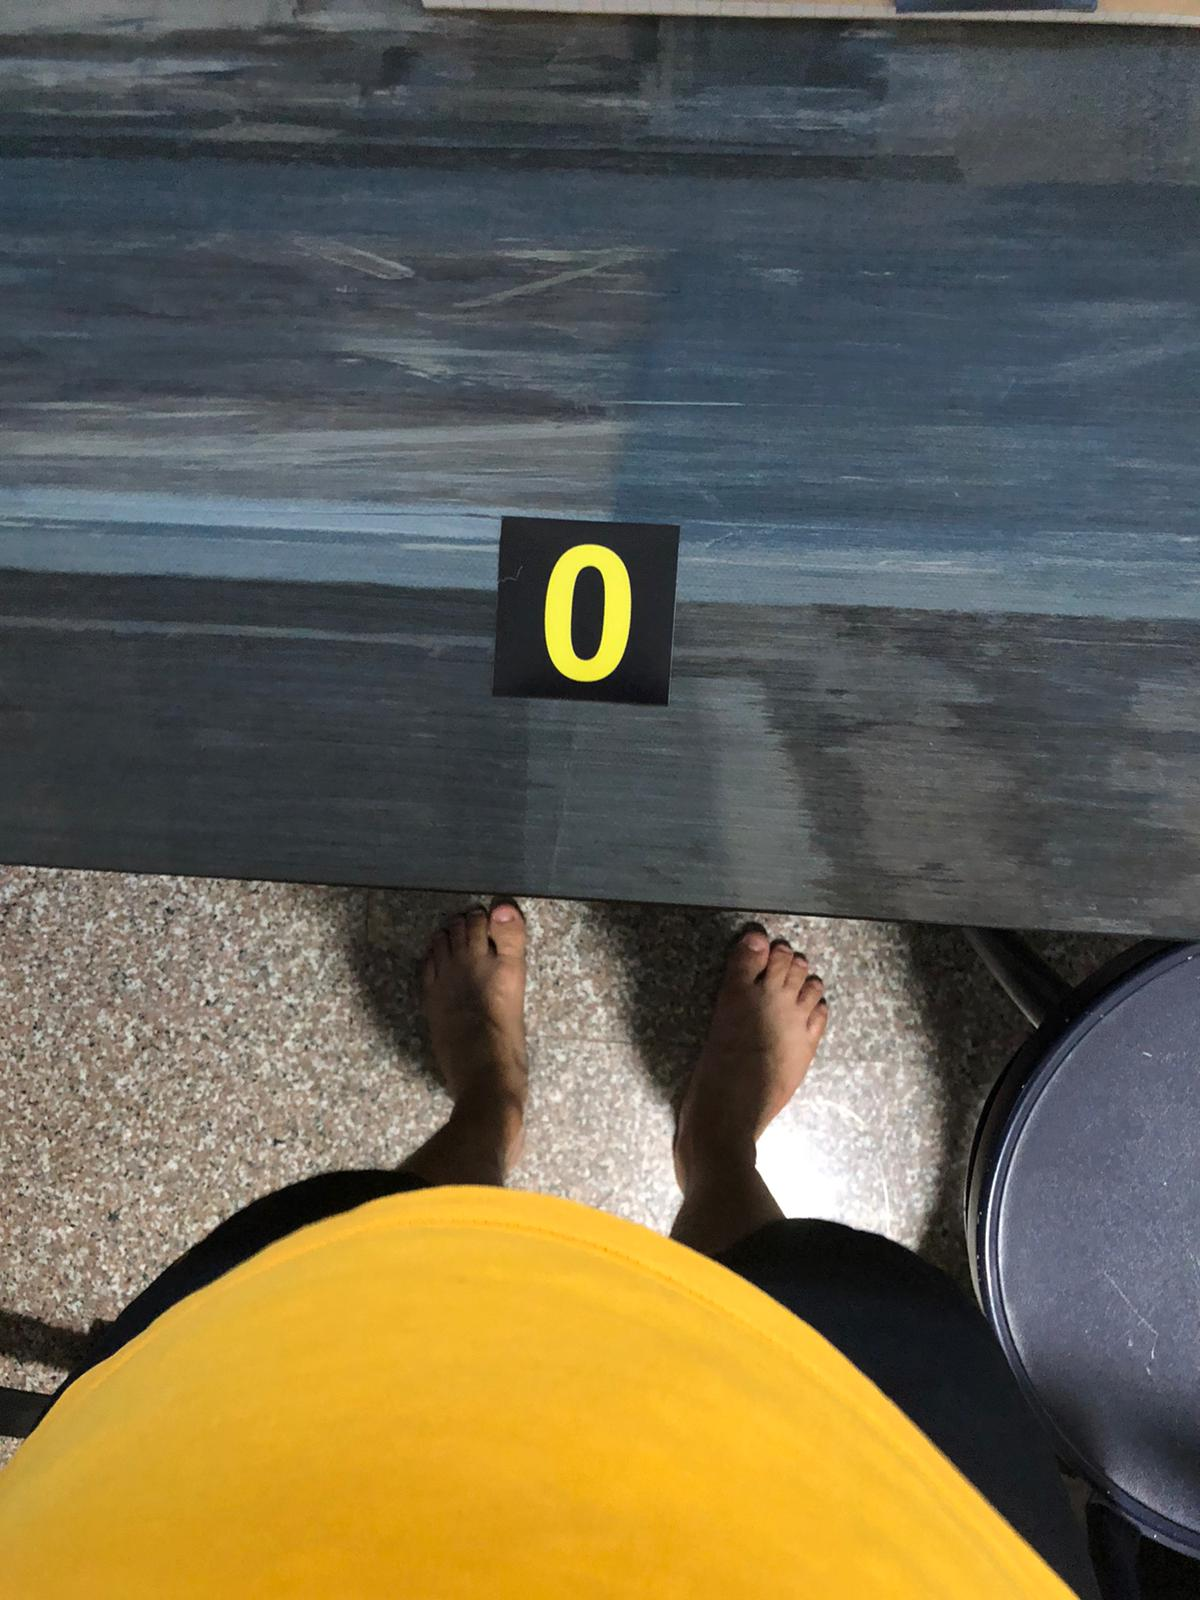Number 0: (500, 522, 671, 706)
